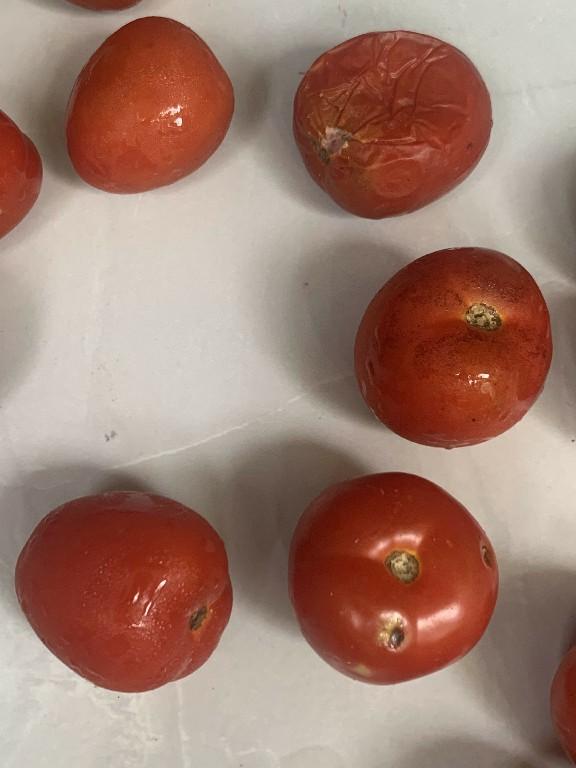NG: (282, 464, 504, 691), (344, 239, 560, 457), (284, 22, 504, 229)
OK: (10, 481, 244, 699), (56, 13, 236, 197)
